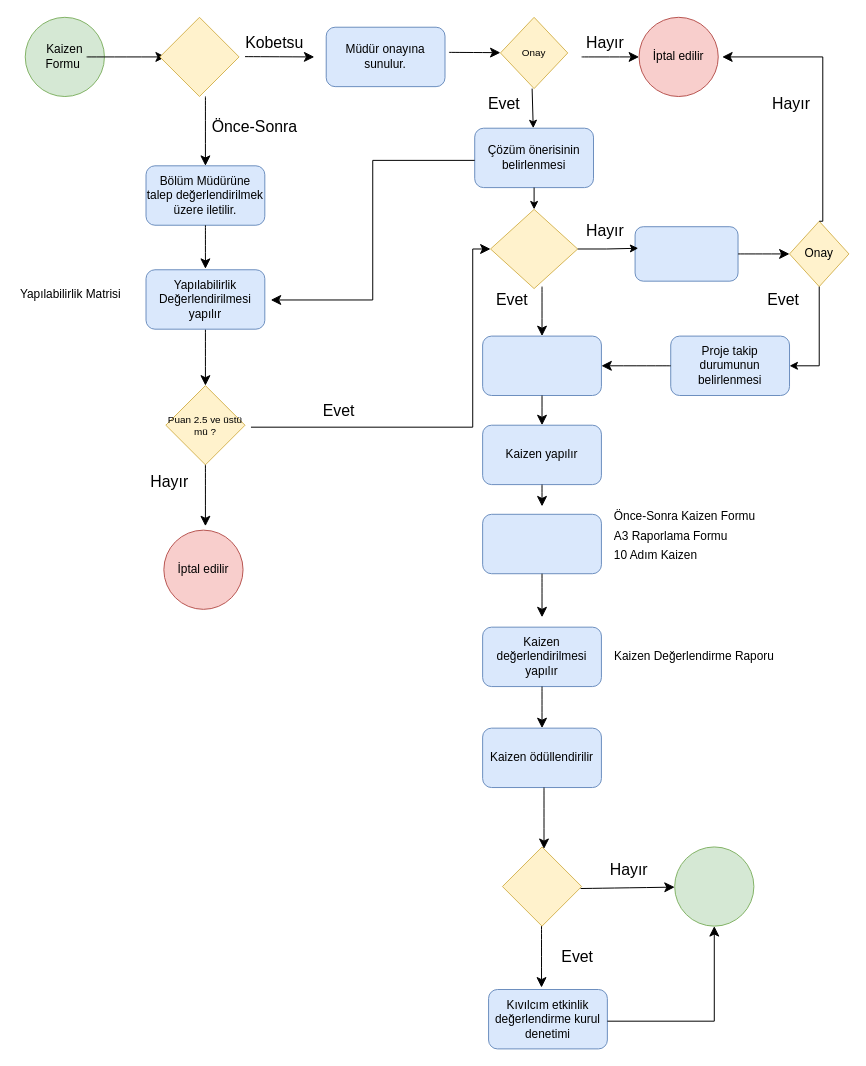
Image size: 866x1066. Some labels were removed from this diagram. Here are the shapes that lost their labels. From the top down, the centre of each, then its label:
point (199, 56): Kaizen Türü
point (534, 248): Maliyet puanı =>3 mü ?
point (686, 253): Genel Müdür onayına sunulur
point (541, 365): Kaizen onaylanır
point (541, 543): Kaizen raporlanır
point (541, 886): Takipli proje mi ?
point (714, 886): Kaizen tamamlanır
